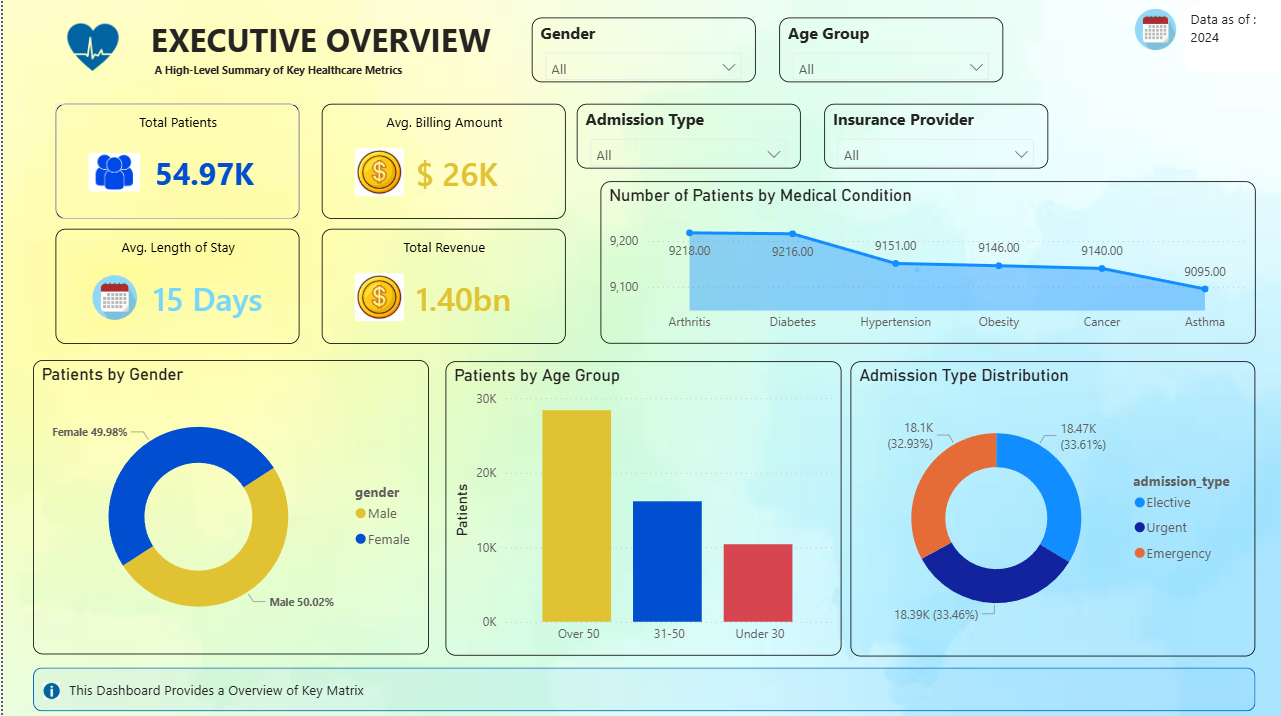

What the dashboard file says about the page in this screenshot:
{"tool":"powerbi","page":{"name":"Overview","canvas":[1280,720],"ordinal":0},"visuals":[{"type":"cardVisual","fields":{"Data":["CountNonNull(cleaned_healthcare_dataset.name)"]},"box":[52.5,103.5,243.8,115],"z":0},{"type":"cardVisual","fields":{"Data":["Avg(cleaned_healthcare_dataset.billing_amount)"]},"box":[318.8,103.8,243.8,115],"z":1000},{"type":"cardVisual","fields":{"Data":["Avg(cleaned_healthcare_dataset.length_of_stay)"]},"box":[52.5,228.8,243.8,115],"z":2000},{"type":"cardVisual","fields":{"Data":["Sum(cleaned_healthcare_dataset.billing_amount)"]},"box":[318.8,228.8,243.8,115],"z":3000},{"type":"slicer","title":"Gender","fields":{"Values":["cleaned_healthcare_dataset.gender"]},"box":[528.8,17.5,223.8,65],"z":4000},{"type":"slicer","title":"Age Group","fields":{"Values":["cleaned_healthcare_dataset.Age Group"]},"box":[776.2,17.5,223.8,65],"z":5000},{"type":"slicer","title":"Admission Type","fields":{"Values":["cleaned_healthcare_dataset.admission_type"]},"box":[573.8,103.8,223.8,65],"z":6000},{"type":"slicer","title":"Insurance Provider","fields":{"Values":["cleaned_healthcare_dataset.insurance_provider"]},"box":[821.2,103.8,223.8,65],"z":7000},{"type":"donutChart","title":"Patients by Gender","fields":{"Category":["cleaned_healthcare_dataset.gender"],"Y":["CountNonNull(cleaned_healthcare_dataset.gender)"]},"box":[30.1,359.5,396.2,294.7],"z":8000},{"type":"columnChart","title":"Patients by Age Group","fields":{"Y":["CountNonNull(cleaned_healthcare_dataset.name)"],"Category":["cleaned_healthcare_dataset.Age Group"]},"box":[442.2,360.7,396.2,294.7],"z":9000},{"type":"donutChart","title":"Admission Type Distribution","fields":{"Category":["cleaned_healthcare_dataset.admission_type"],"Y":["CountNonNull(cleaned_healthcare_dataset.admission_type)"]},"box":[847.5,361.2,405,295],"z":10000},{"type":"image","box":[40,12.2,99,69.7],"z":11000},{"type":"textbox","box":[129.3,12.2,377.9,74.6],"z":12000},{"type":"image","box":[1122.2,4.5,59.9,48.9],"z":13000},{"type":"textbox","box":[1182.1,4.5,92.9,66],"z":14000},{"type":"shape","box":[30,667.5,1222.5,43.8],"z":15000},{"type":"textbox","box":[61.2,676.2,567.5,30],"z":16000},{"type":"image","box":[36.7,682.7,24.7,16.7],"z":17000},{"type":"areaChart","title":"Number of Patients by Medical Condition","fields":{"Category":["cleaned_healthcare_dataset.medical_condition"],"Y":["CountNonNull(cleaned_healthcare_dataset.name)"]},"box":[597.5,181.2,655,162.5],"z":18000}]}

Visuals, with their boxes in screenshot pixels (x1, y1, x2, y2), scaled from the page's 1280x720 canvas onto the 1281x716 screenshot:
cardVisual - CountNonNull(cleaned_healthcare_dataset.name): {"left": 53, "top": 103, "right": 297, "bottom": 217}
cardVisual - Avg(cleaned_healthcare_dataset.billing_amount): {"left": 319, "top": 103, "right": 563, "bottom": 218}
cardVisual - Avg(cleaned_healthcare_dataset.length_of_stay): {"left": 53, "top": 228, "right": 297, "bottom": 342}
cardVisual - Sum(cleaned_healthcare_dataset.billing_amount): {"left": 319, "top": 228, "right": 563, "bottom": 342}
"Gender" slicer: {"left": 529, "top": 17, "right": 753, "bottom": 82}
"Age Group" slicer: {"left": 777, "top": 17, "right": 1001, "bottom": 82}
"Admission Type" slicer: {"left": 574, "top": 103, "right": 798, "bottom": 168}
"Insurance Provider" slicer: {"left": 822, "top": 103, "right": 1046, "bottom": 168}
"Patients by Gender" donutChart: {"left": 30, "top": 358, "right": 427, "bottom": 651}
"Patients by Age Group" columnChart: {"left": 443, "top": 359, "right": 839, "bottom": 652}
"Admission Type Distribution" donutChart: {"left": 848, "top": 359, "right": 1253, "bottom": 653}
image: {"left": 40, "top": 12, "right": 139, "bottom": 81}
textbox: {"left": 129, "top": 12, "right": 508, "bottom": 86}
image: {"left": 1123, "top": 4, "right": 1183, "bottom": 53}
textbox: {"left": 1183, "top": 4, "right": 1276, "bottom": 70}
shape: {"left": 30, "top": 664, "right": 1253, "bottom": 707}
textbox: {"left": 61, "top": 672, "right": 629, "bottom": 702}
image: {"left": 37, "top": 679, "right": 61, "bottom": 696}
"Number of Patients by Medical Condition" areaChart: {"left": 598, "top": 180, "right": 1253, "bottom": 342}
